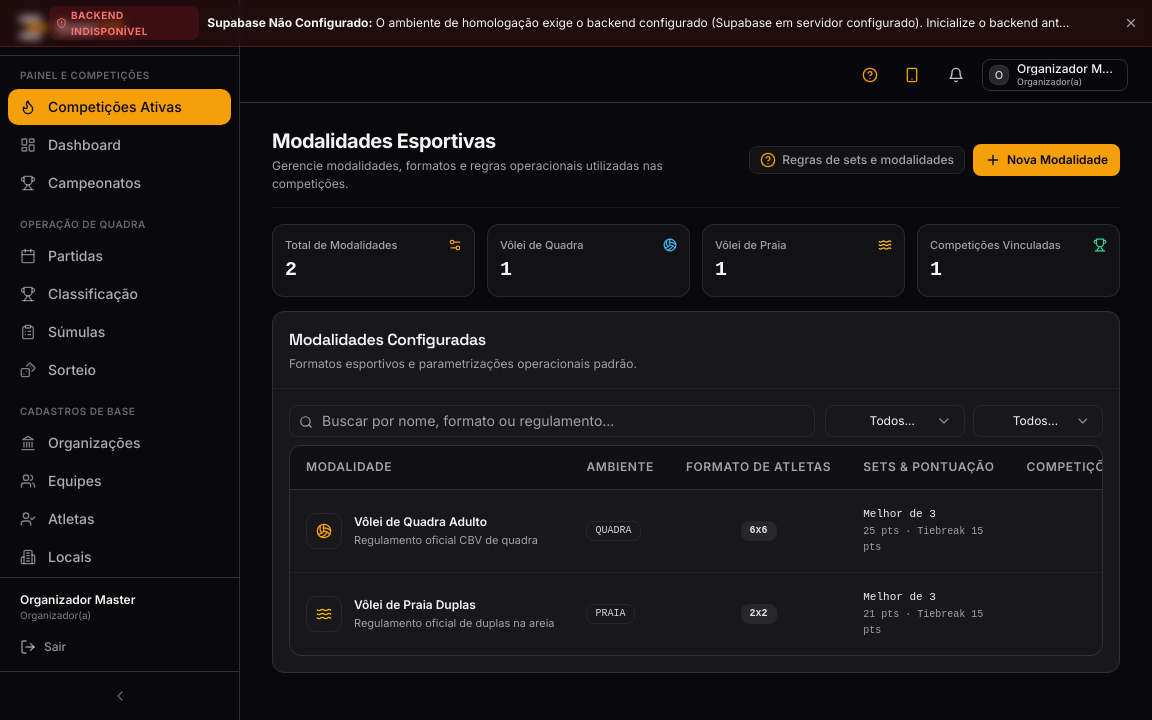
Scenario: ModalitiesPage Component (Fase 8.3) › abre o modal de criação ao clicar em Nova Modalidade
This screenshot has width=1152, height=720.
Expected: the text "Vôlei de Quadra Adulto" is shown, x1=354 y1=514 x2=487 y2=529
Step 1. Click the button "Nova Modalidade" → (1046, 160), box x1=973 y1=144 x2=1120 y2=176
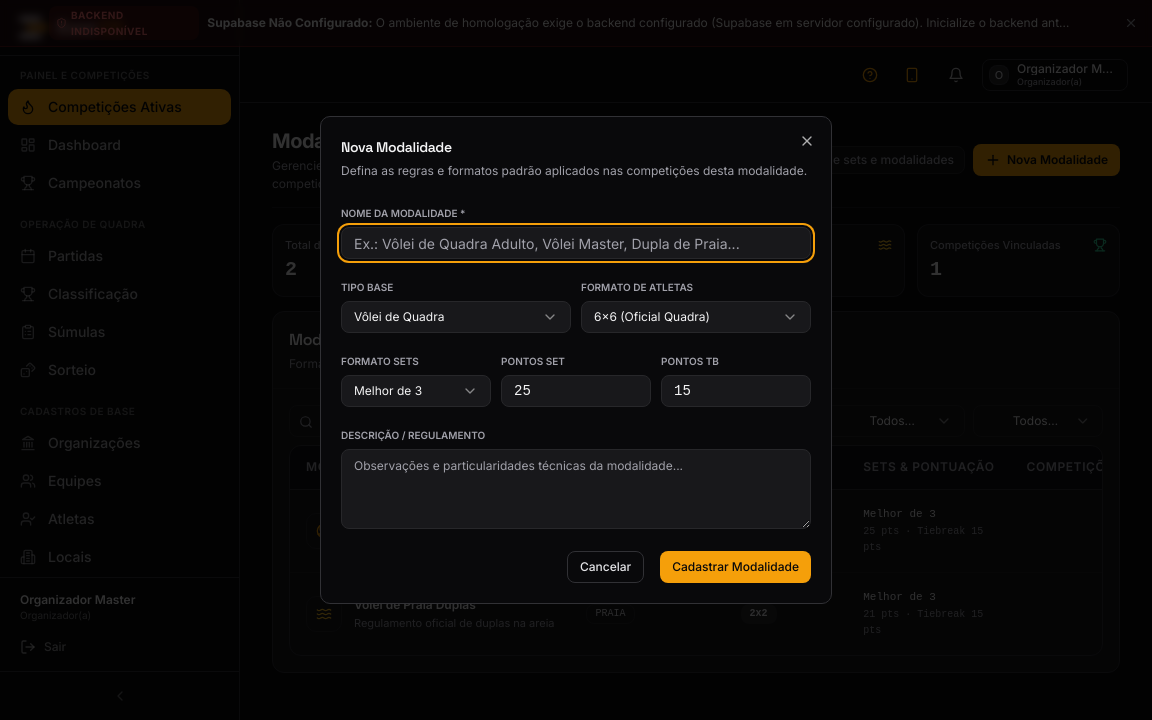
Now the dialog is shown, box x1=320 y1=116 x2=832 y2=604
Now the field labelled "Nome da Modalidade *" is shown, box x1=341 y1=227 x2=811 y2=259
